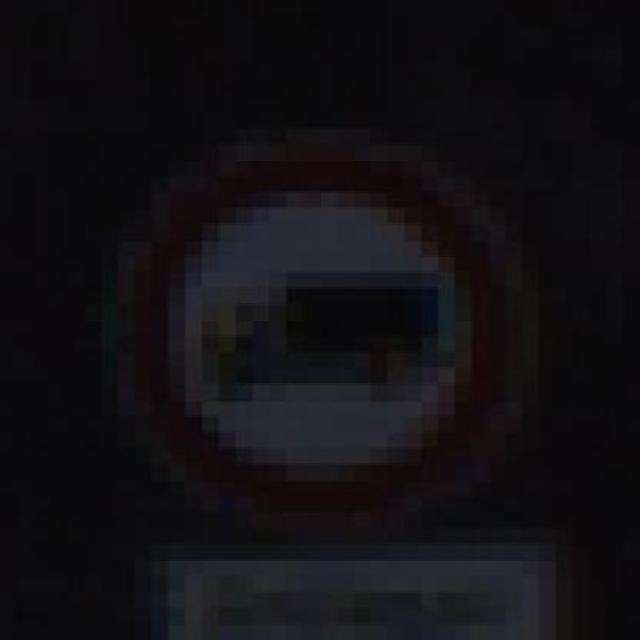Truck traffic is prohibited: (84, 96, 539, 529)
